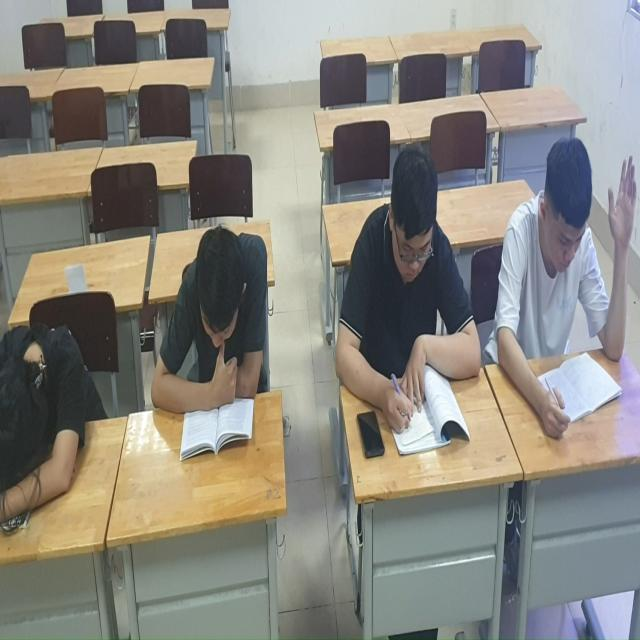raise_hand: (493, 134, 638, 449)
read: (334, 143, 486, 481), (152, 221, 271, 463)
sleep: (1, 311, 98, 533)
